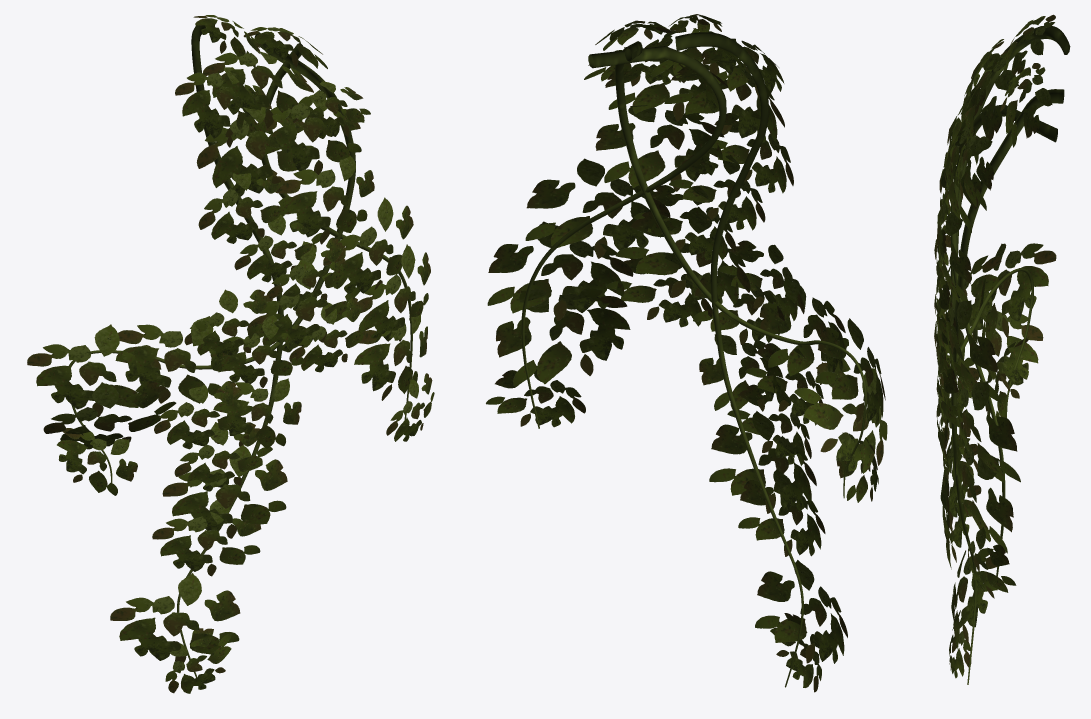
Rendered from SM_VinesDown.fbx.
3 views of the same model, side by side, from view 1: azimuth 30°, elevation 25°; view 2: azimuth 150°, elevation 25°; view 3: azimuth 270°, elevation 25° (orthographic). The views are drawn at different scales.
Visible parts, largest first — view 1: SM_Vines3; view 2: SM_Vines3; view 3: SM_Vines3.
Boxes of the visible parts, x1,y1,x2,y2 form: SM_Vines3: (27,15,434,693); SM_Vines3: (486,14,887,692); SM_Vines3: (934,14,1070,684).
Bounding box in the file's own units: 204 × 306 × 56.3.
